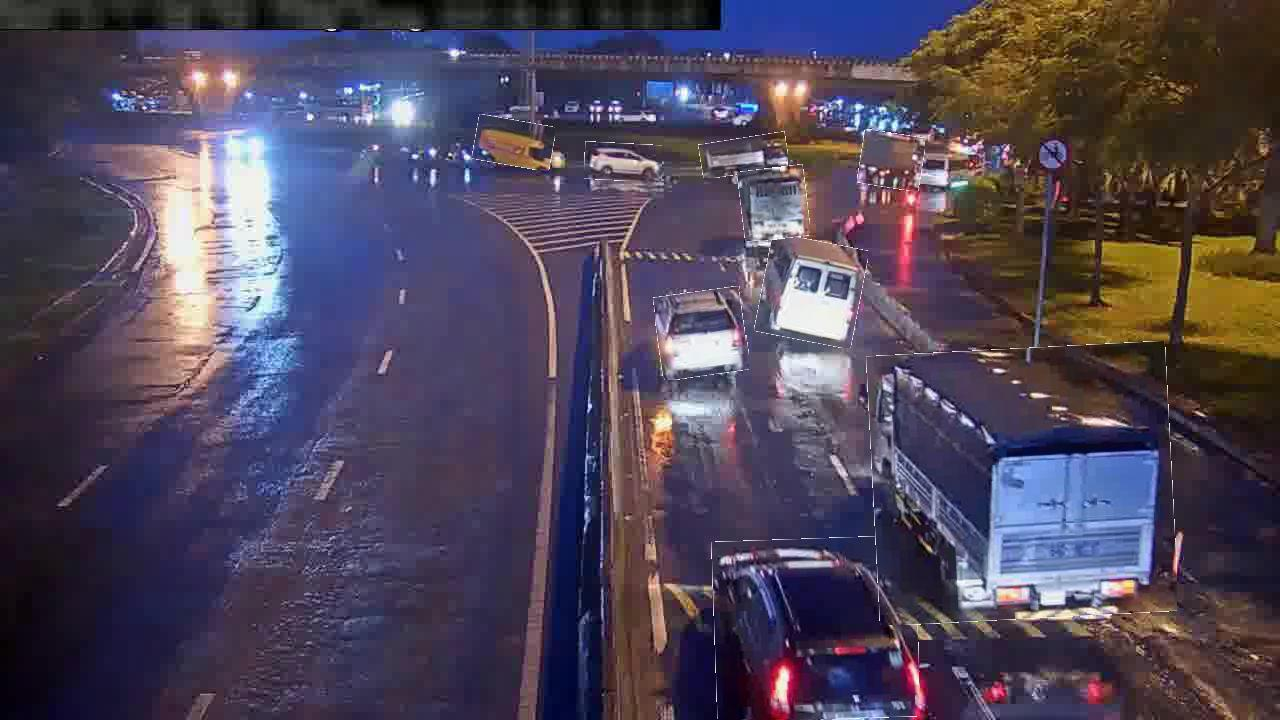14: (759, 237, 865, 345), (739, 166, 809, 241)
8: (870, 345, 1175, 623), (474, 117, 555, 168), (859, 132, 925, 190)
container: (712, 536, 919, 719), (656, 289, 748, 379), (699, 135, 788, 176), (585, 142, 663, 181)
